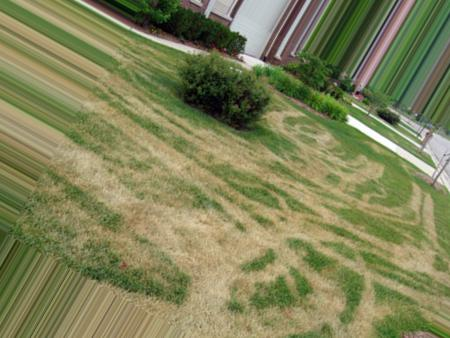patch: (152, 214, 243, 294), (128, 125, 211, 186), (268, 208, 341, 251), (306, 149, 335, 183)
